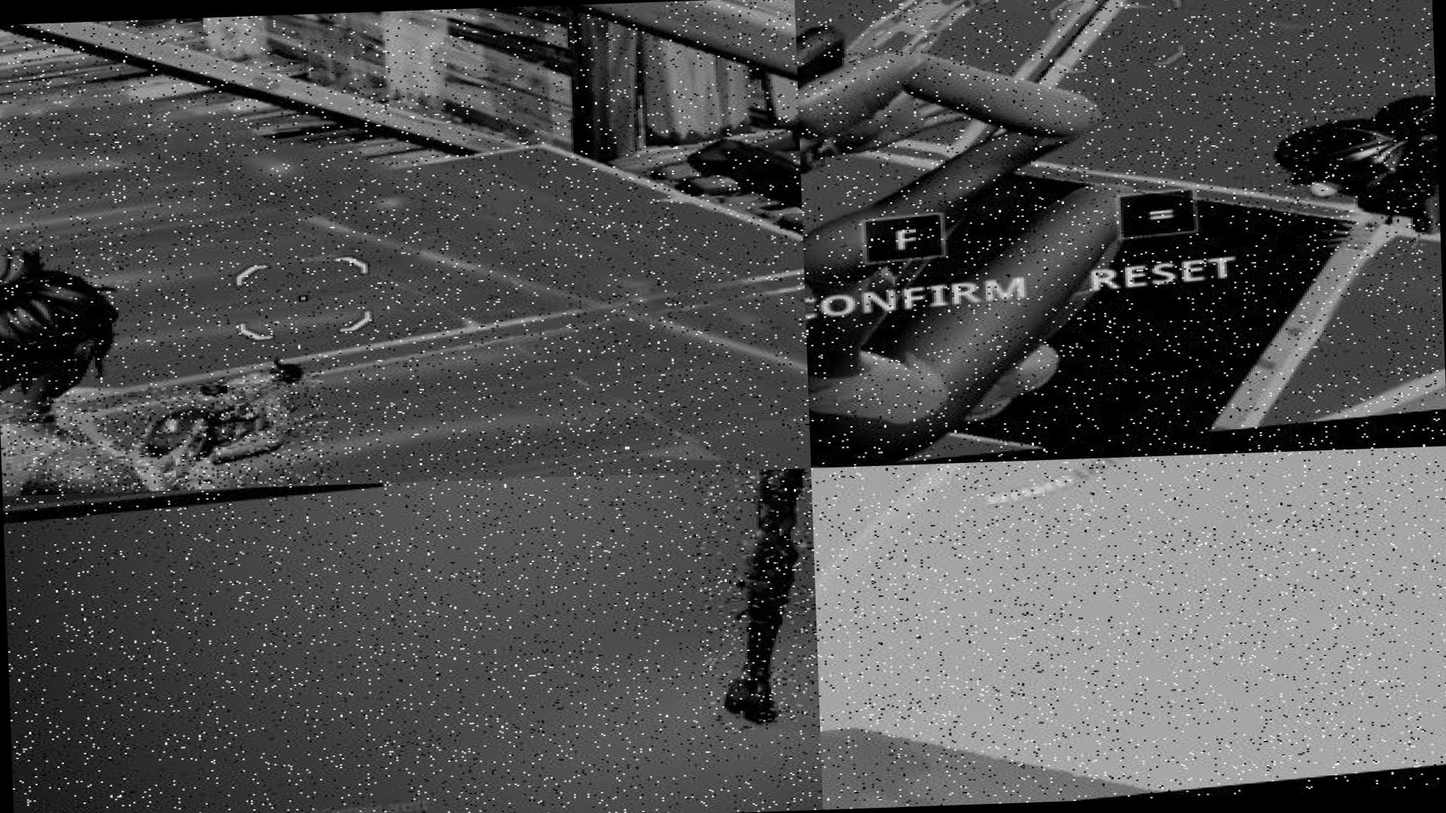player: (678, 468, 821, 748), (0, 379, 332, 496), (1314, 106, 1441, 274)
